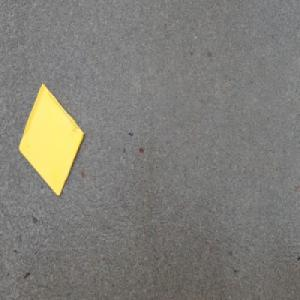PlasticPart: (17, 82, 85, 198)
